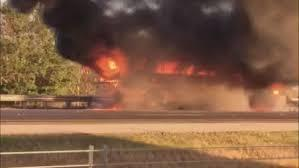fire: (82, 40, 233, 82)
